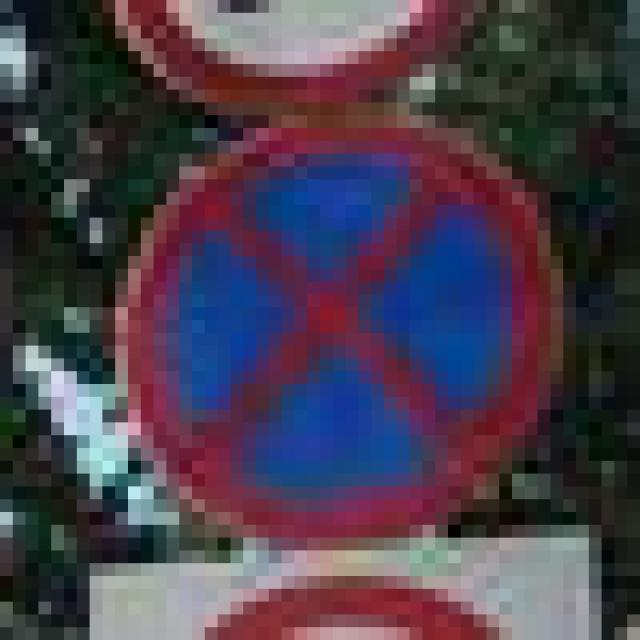NO_STOPPING_OR_STANDING: (102, 102, 550, 538)
